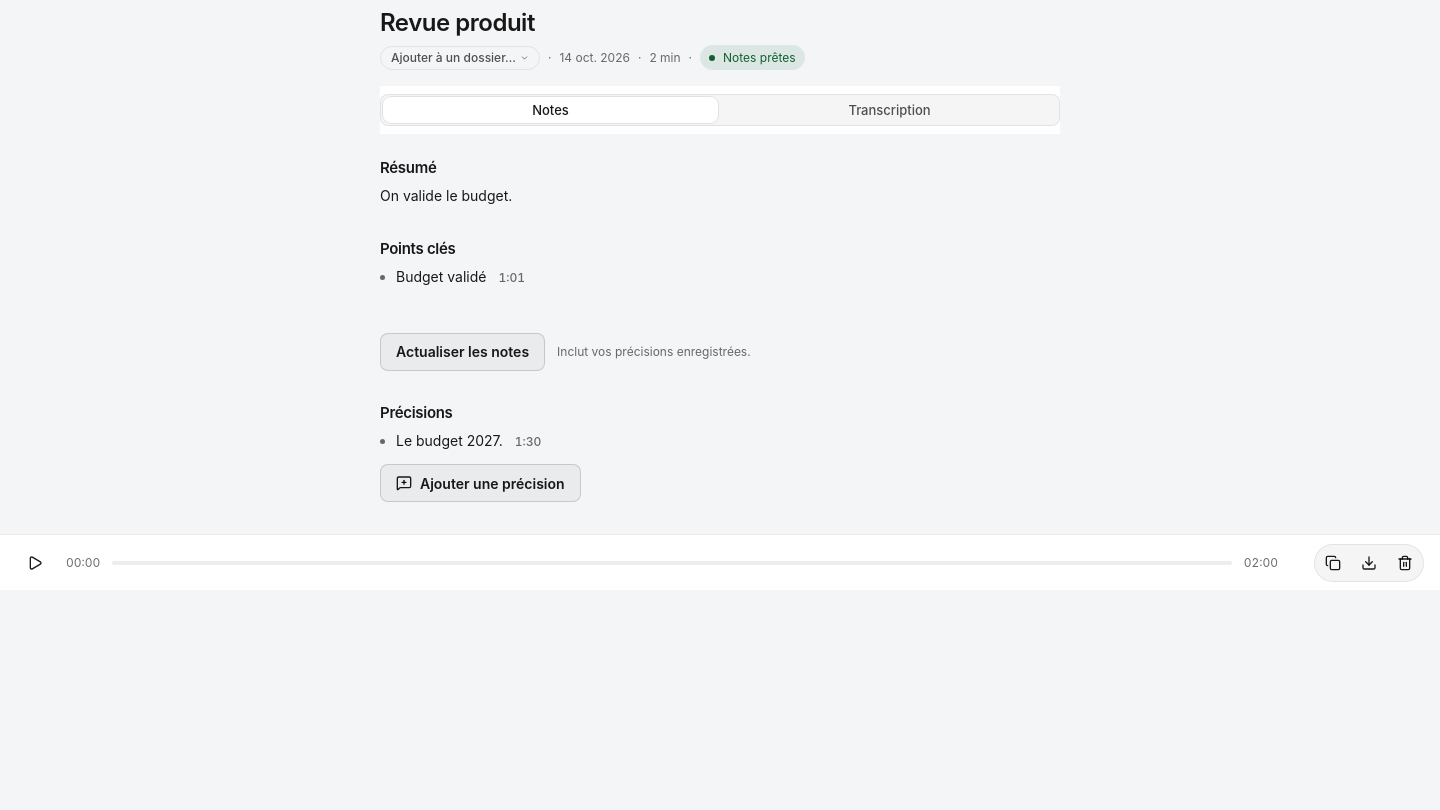
Test case: opens a clarification made after the last turn, plays it and marks that turn
Click the button named "Écouter à 1:30" at (528,441), box x1=511 y1=432 x2=545 y2=451
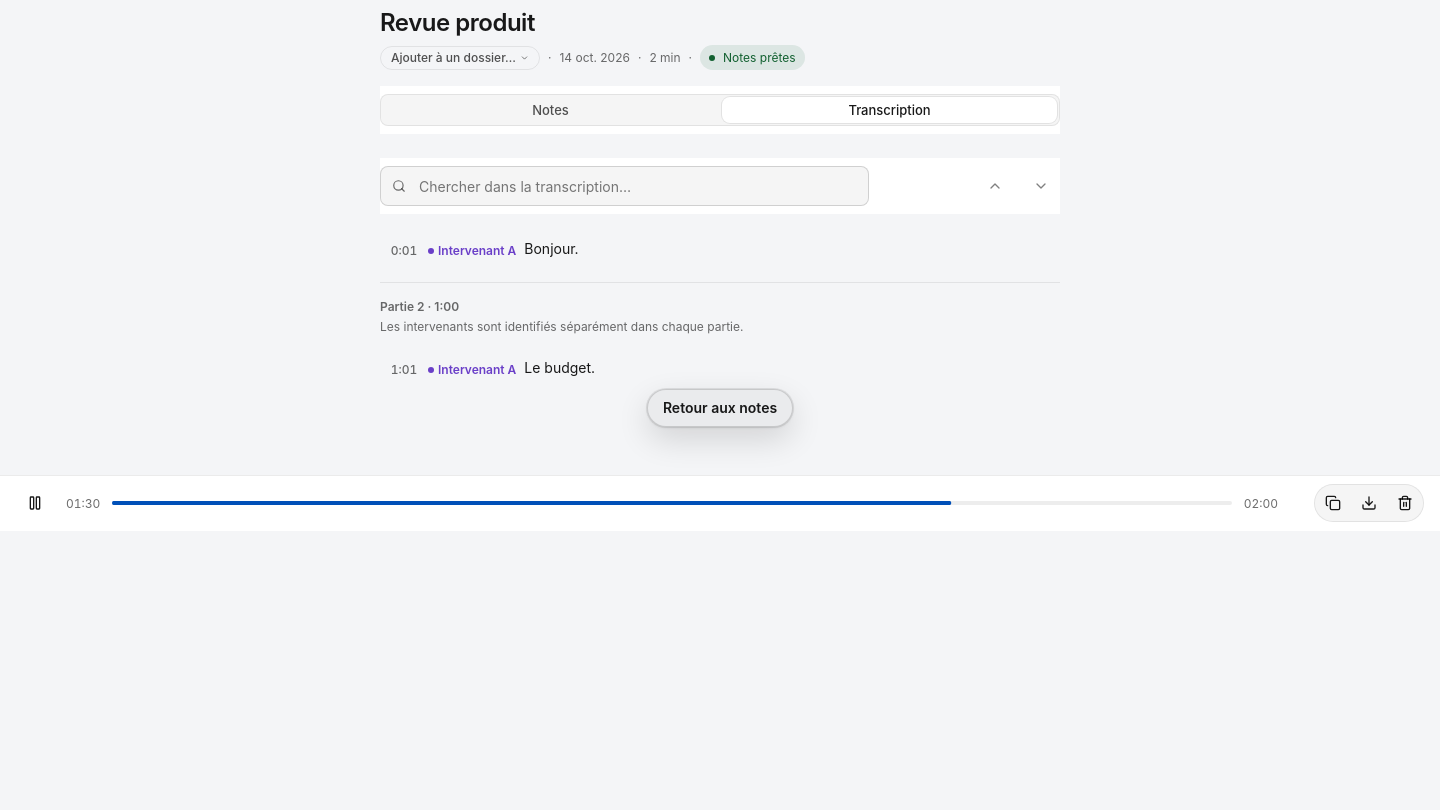
Result: the button "Retour aux notes" is shown at x1=647 y1=389 x2=793 y2=427
Result: the button named "Mettre en pause" is shown at x1=16 y1=484 x2=54 y2=522
